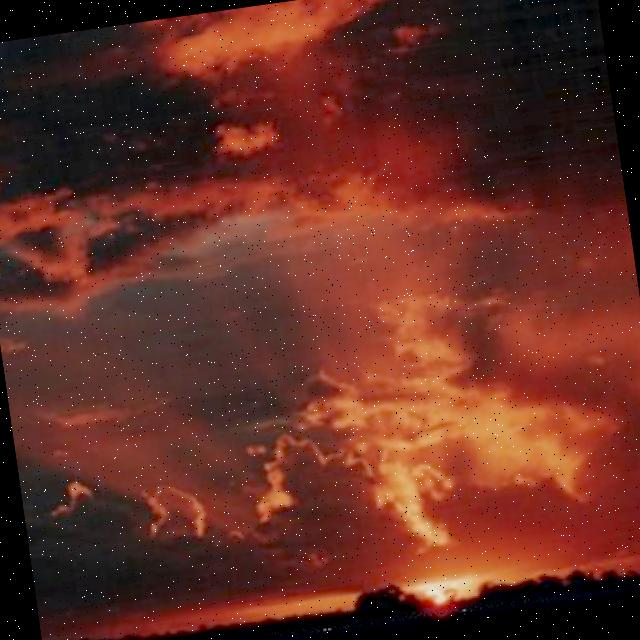As: (1, 9, 640, 527)
